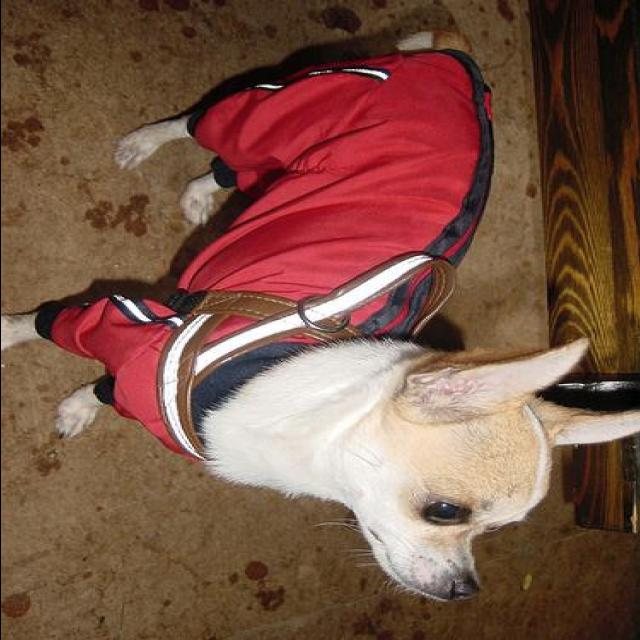chihuahua: (2, 26, 640, 605)
